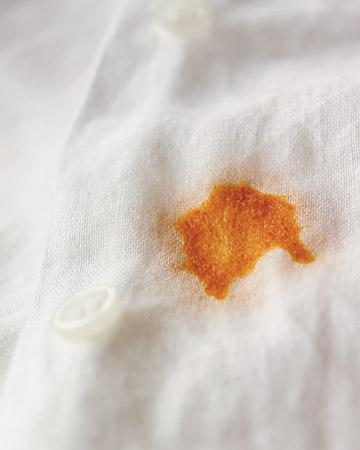gun: (143, 171, 317, 298)
